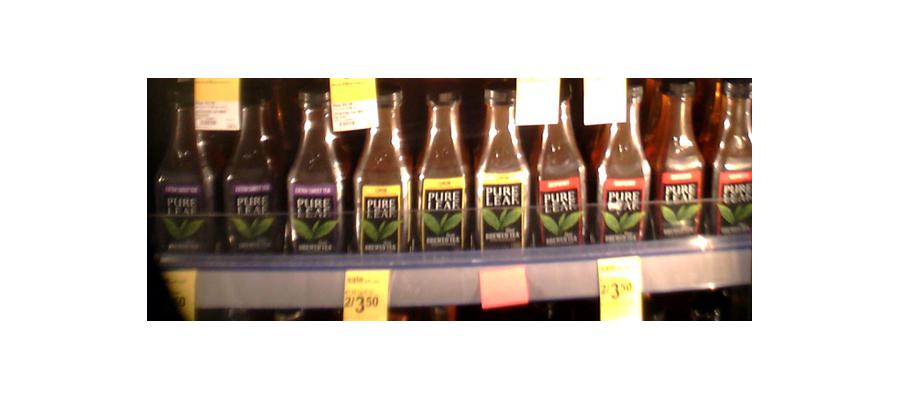bottle: (352, 83, 414, 259), (472, 76, 531, 255), (286, 87, 347, 255), (151, 95, 214, 256), (413, 86, 472, 256), (225, 80, 281, 256), (533, 88, 589, 248), (593, 93, 651, 244), (653, 79, 705, 240), (709, 73, 754, 235)
